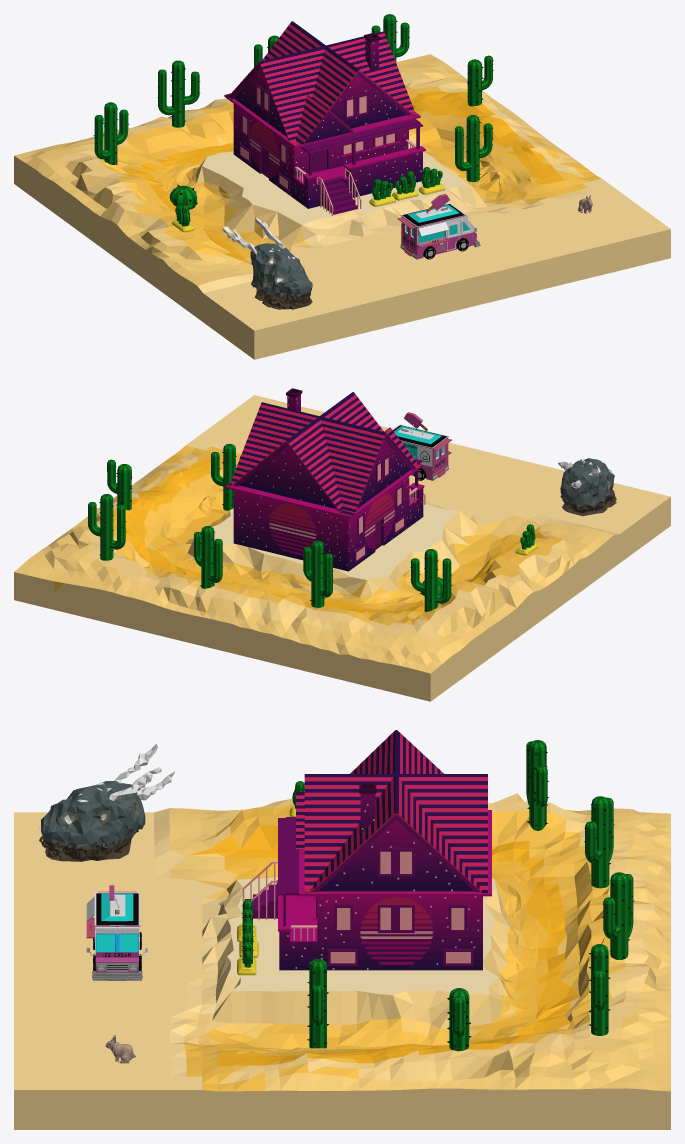
3 renders of one model, top to bottom at view 1: azimuth 30°, elevation 25°; view 2: azimuth 150°, elevation 25°; view 3: azimuth 270°, elevation 25°, orthographic. The views are drawn at different scales.
Parts seen in each view (by area): view 1: Cube.001, Cube.156, OBJRANDOM_METEORITE, VEHICLES_ICE_CREAM_TRUCK, Cylinder.037, Cylinder.044, Cylinder.045, Cylinder.038, Cylinder.042, Cylinder.039, Cylinder.041, Sphere.023 (+1 smaller); view 2: Cube.001, Cube.156, OBJRANDOM_METEORITE, VEHICLES_ICE_CREAM_TRUCK, Cylinder.042, Cylinder.045, Cylinder.044, Cylinder.043, Cylinder.037, Cylinder.038; view 3: Cube.001, Cube.156, OBJRANDOM_METEORITE, VEHICLES_ICE_CREAM_TRUCK, Cylinder.043, Cylinder.044, Cylinder.045, Cylinder.042, Cylinder.037, Cylinder.038, Cylinder.041.
Boxes of the visible parts, bbox=[...] form: Cube.001: bbox=[14, 54, 670, 359]; Cube.156: bbox=[224, 21, 425, 215]; OBJRANDOM_METEORITE: bbox=[222, 218, 312, 309]; VEHICLES_ICE_CREAM_TRUCK: bbox=[397, 194, 480, 259]; Cylinder.037: bbox=[454, 115, 493, 182]; Cylinder.044: bbox=[157, 60, 200, 127]; Cylinder.045: bbox=[93, 102, 129, 164]; Cylinder.038: bbox=[467, 55, 493, 106]; Cylinder.042: bbox=[371, 14, 409, 62]; Cylinder.039: bbox=[369, 179, 395, 206]; Cylinder.041: bbox=[418, 167, 445, 194]; Sphere.023: bbox=[169, 184, 197, 209]; Cube.001: bbox=[14, 395, 670, 701]; Cube.156: bbox=[225, 388, 425, 571]; OBJRANDOM_METEORITE: bbox=[558, 458, 616, 516]; VEHICLES_ICE_CREAM_TRUCK: bbox=[392, 412, 451, 480]; Cylinder.042: bbox=[88, 494, 126, 560]; Cylinder.045: bbox=[410, 549, 452, 611]; Cylinder.044: bbox=[303, 540, 333, 607]; Cylinder.043: bbox=[193, 526, 222, 588]; Cylinder.037: bbox=[211, 444, 240, 510]; Cylinder.038: bbox=[107, 459, 131, 510]; Cube.001: bbox=[14, 793, 670, 1129]; Cube.156: bbox=[242, 730, 491, 970]; OBJRANDOM_METEORITE: bbox=[39, 743, 174, 861]; VEHICLES_ICE_CREAM_TRUCK: bbox=[86, 885, 147, 980]; Cylinder.043: bbox=[602, 872, 634, 959]; Cylinder.044: bbox=[584, 796, 614, 888]; Cylinder.045: bbox=[526, 740, 549, 830]; Cylinder.042: bbox=[588, 944, 610, 1035]; Cylinder.037: bbox=[307, 959, 329, 1048]; Cylinder.038: bbox=[447, 988, 471, 1051]; Cylinder.041: bbox=[237, 932, 256, 975].
Size of the model in its own units: 4002 by 1728 by 4001.
Materials: 40 (4 with a texture image).
